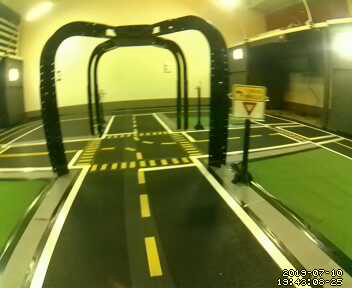Turn Yield: (231, 85, 266, 121)
